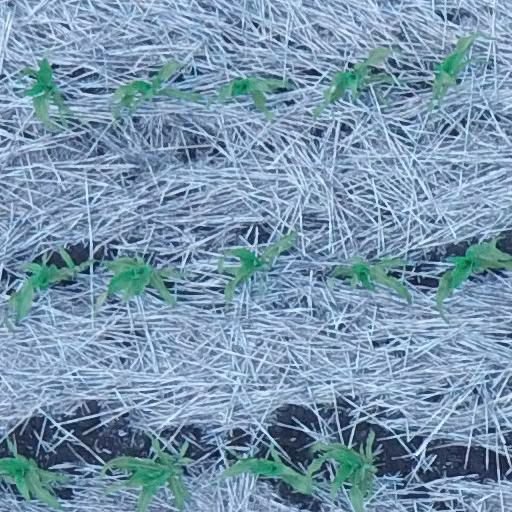planta: (309, 43, 402, 121), (214, 225, 299, 305), (5, 256, 96, 325), (108, 56, 205, 118), (424, 29, 491, 113), (93, 253, 188, 309), (221, 440, 316, 496), (15, 56, 76, 135), (208, 70, 295, 122), (327, 253, 415, 304)
